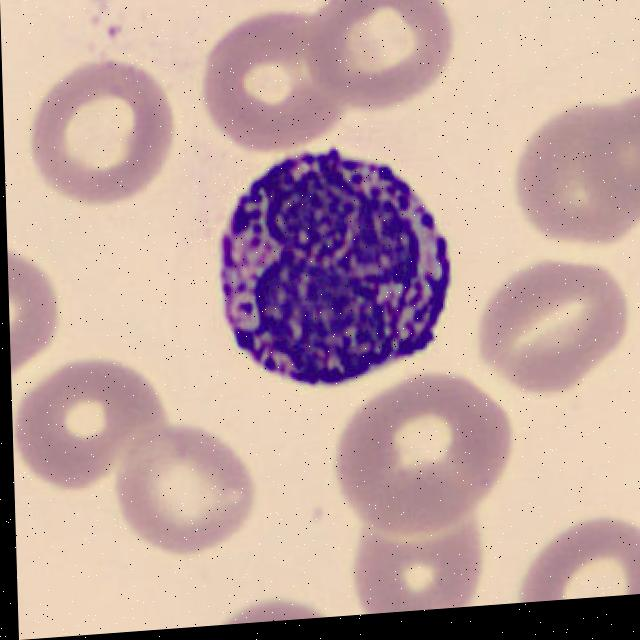basophil: (205, 142, 456, 400)
rbc: (332, 373, 518, 540), (199, 1, 357, 163), (26, 50, 177, 215), (483, 245, 636, 399), (108, 411, 256, 563), (502, 105, 640, 265), (14, 354, 156, 496), (296, 0, 455, 121), (340, 509, 484, 616), (518, 511, 640, 603), (572, 89, 640, 228), (7, 225, 60, 374), (195, 589, 335, 627), (414, 0, 558, 3), (561, 0, 640, 1)
